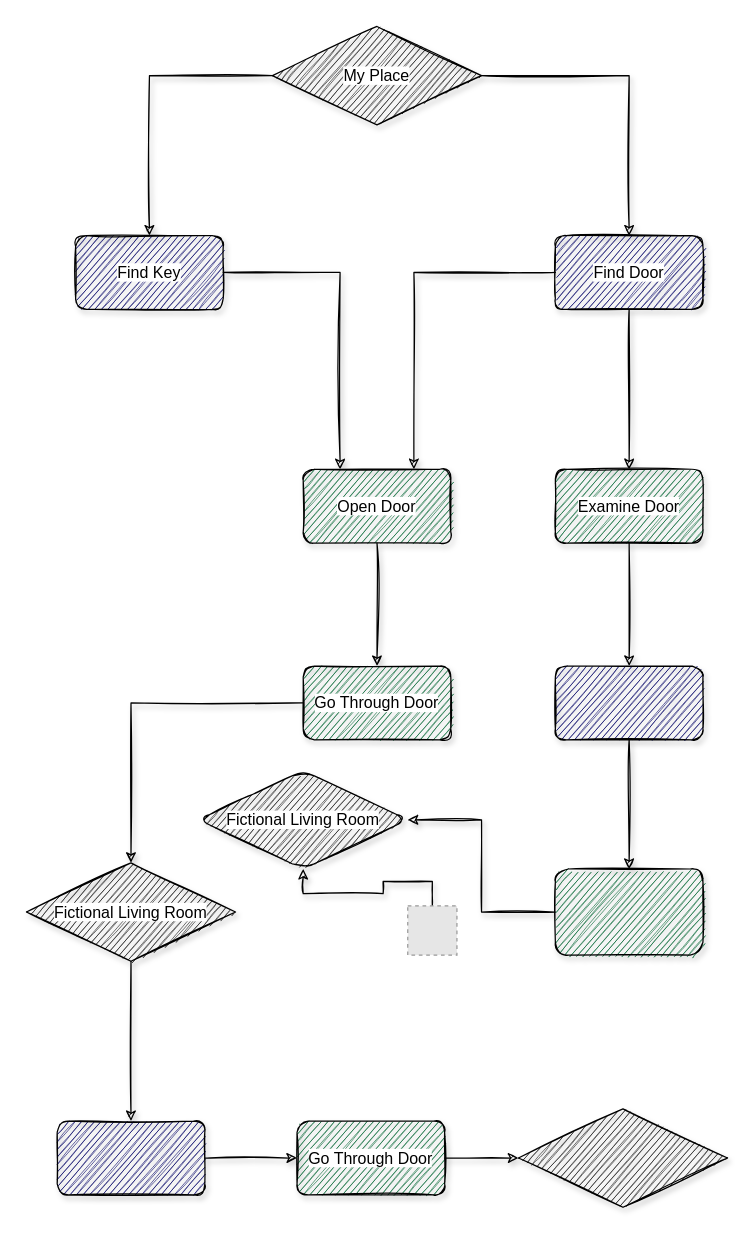
The diagram is 756 pixels wide and 1237 high, and some of its shapes have lost their labels. Grey dashed boxes stand in for pictures. The shapes that lost their labels are listed below. From the top down, each one's centre as x and y in pixels, then its label:
[629,704]: Find Keyhole
[629,913]: Look Through Keyhole
[131,1159]: Find Open Door
[623,1159]: Fictional Bathroom
